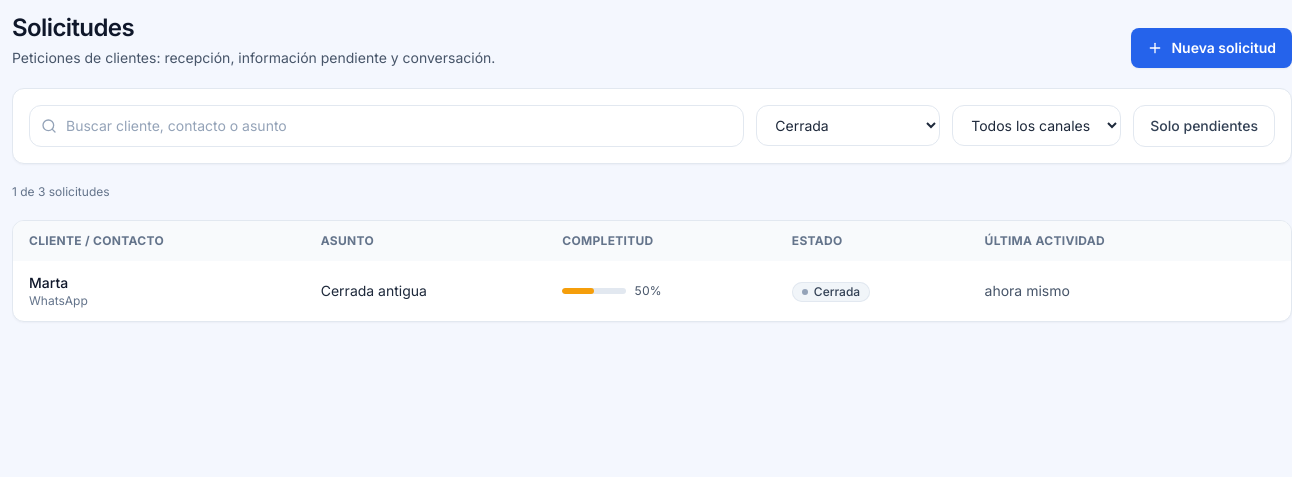
<SolicitudesInbox /> › los filtros viven en la URL y muestran un vacío con "quitar filtros"
Expected: the text "Reforma cocina" is not shown
Expected: the text "Cerrada antigua" is shown, x1=321 y1=282 x2=427 y2=299
Type "zzz" into the search field labelled "Buscar cliente, contacto o asunto" at x=387, y=126, box x1=29 y1=105 x2=744 y2=147
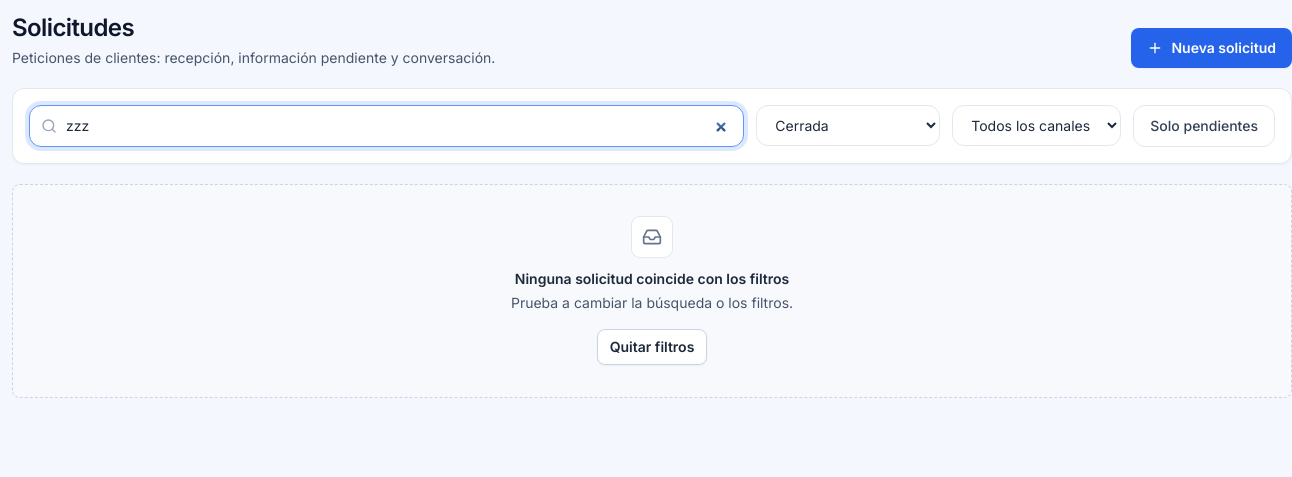
Now the text "Ninguna solicitud coincide con los filtros" is shown, box x1=515 y1=269 x2=789 y2=289
Click the button "Quitar filtros" at x=652, y=347, box x1=597 y1=329 x2=707 y2=365
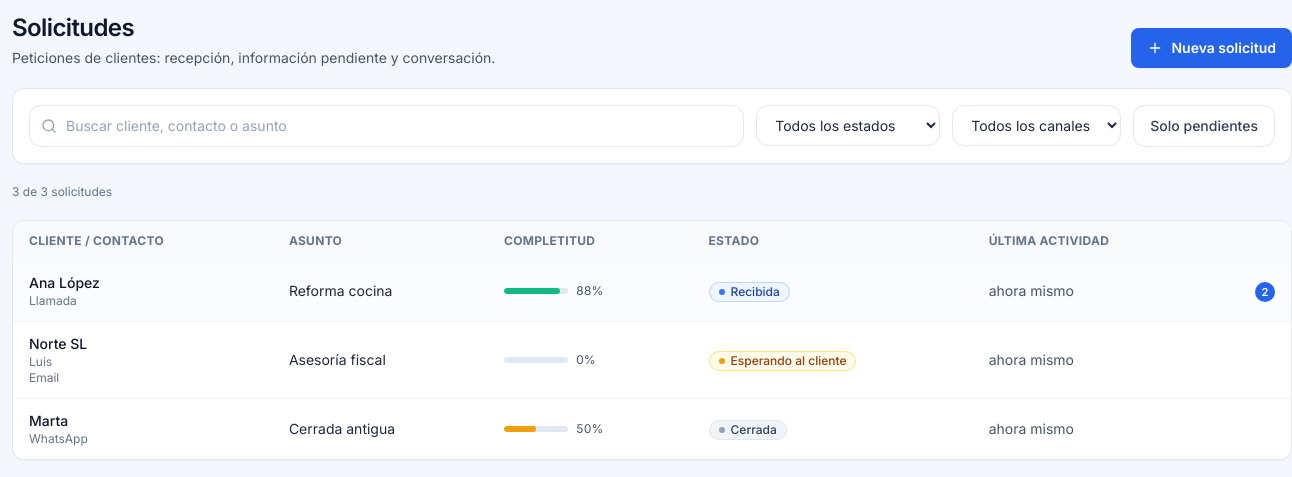
Now the text "3 de 3 solicitudes" is shown, box x1=12 y1=184 x2=112 y2=199
